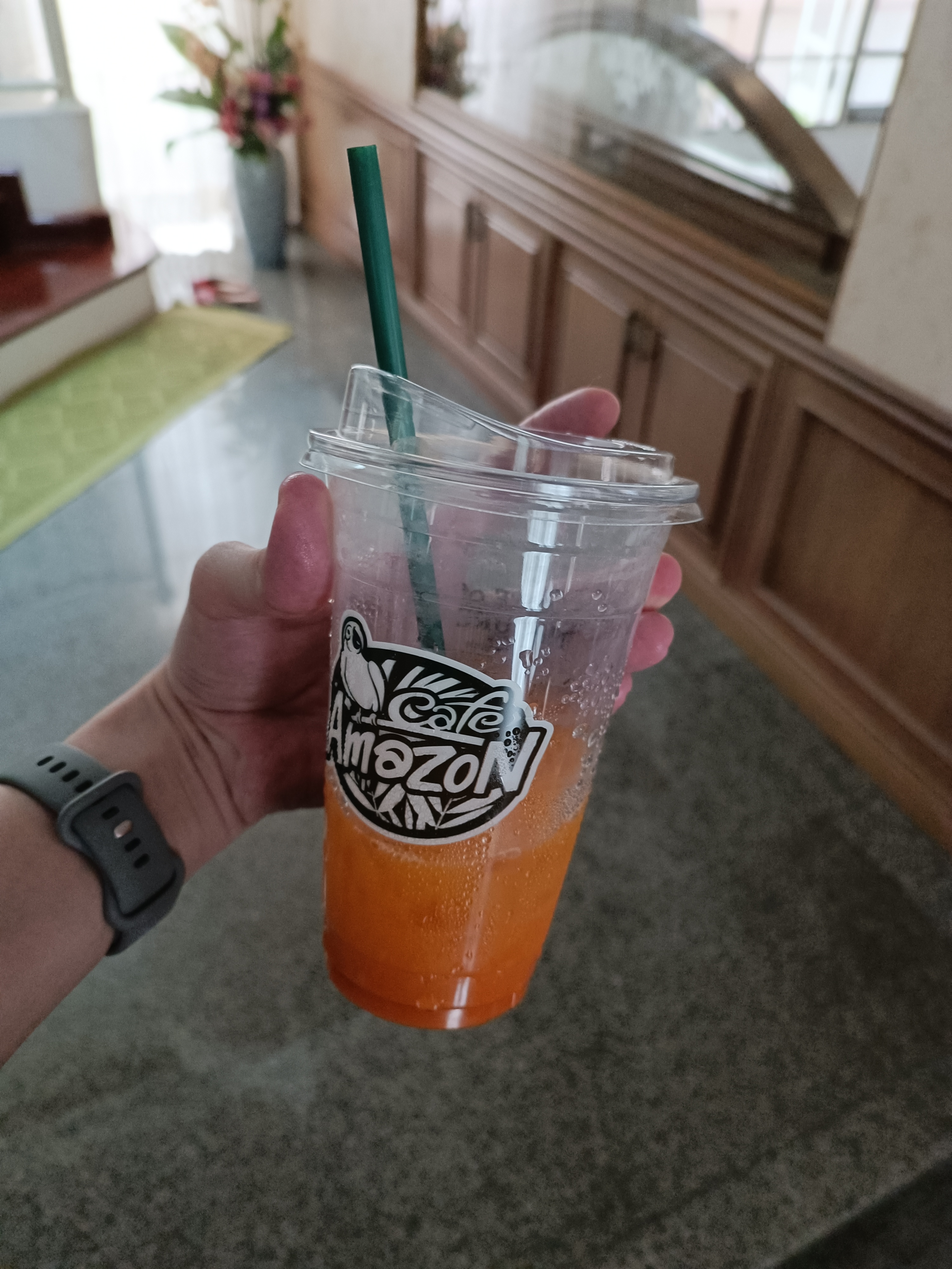plastic: (268, 135, 719, 1045)
